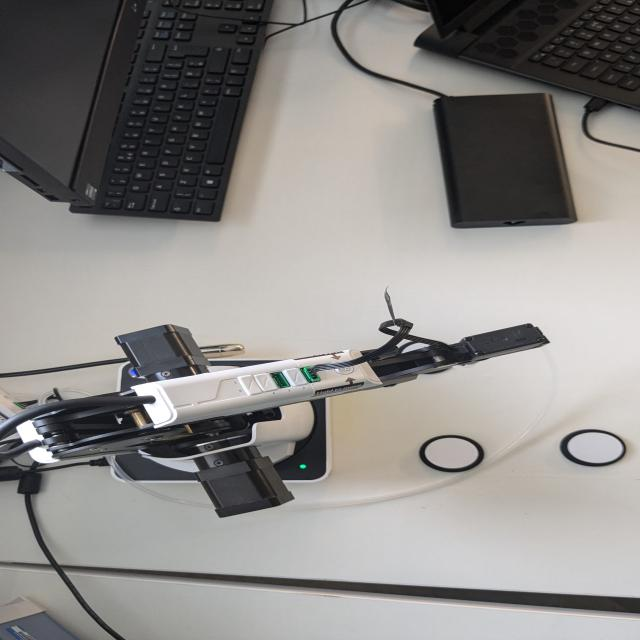Robot-end-effector-HF8z: (452, 314, 555, 370)
